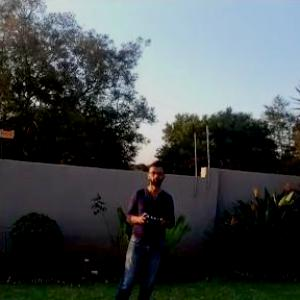follow: (110, 154, 180, 299)
